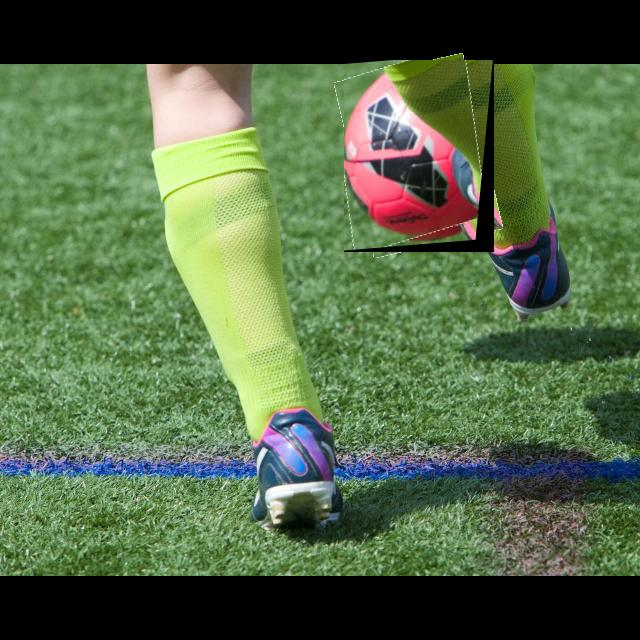Football: (344, 60, 494, 252)
